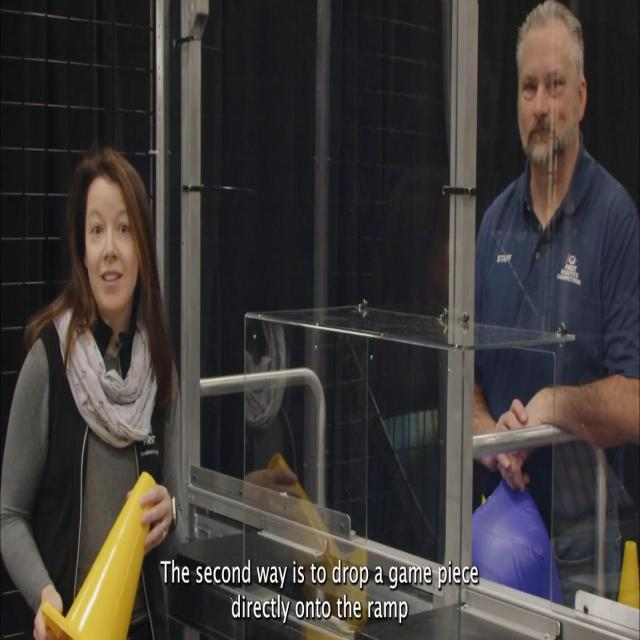frc_cone: (40, 474, 158, 640), (618, 535, 640, 611)
frc_cube: (472, 474, 562, 608)
